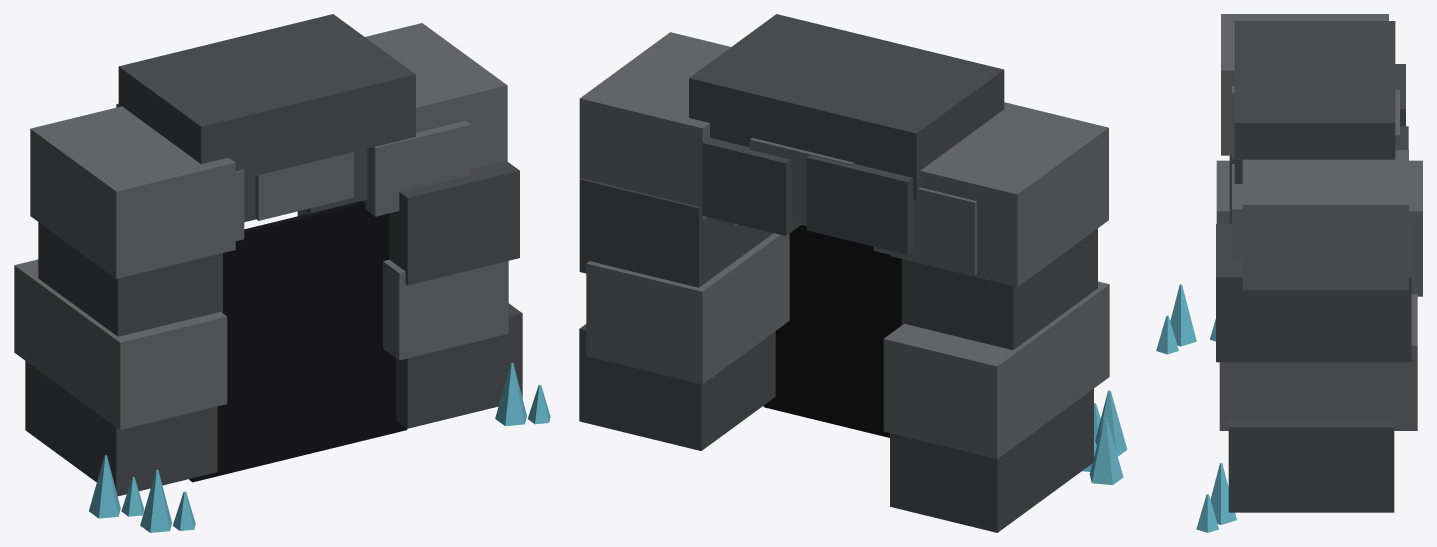
The model's file is cave-arch.glb.
3 renders of one model, left to right at view 1: azimuth 30°, elevation 25°; view 2: azimuth 150°, elevation 25°; view 3: azimuth 270°, elevation 25°, orthographic. The views are drawn at different scales.
Parts seen in each view (by area): view 1: cave-arch; view 2: cave-arch; view 3: cave-arch.
Part boxes in pixels (x1=…): cave-arch: x1=14, y1=14, x2=550, y2=532; cave-arch: x1=579, y1=14, x2=1127, y2=532; cave-arch: x1=1156, y1=14, x2=1422, y2=532.
Bounding box in the file's own units: 7.43 × 5.8 × 3.98.
